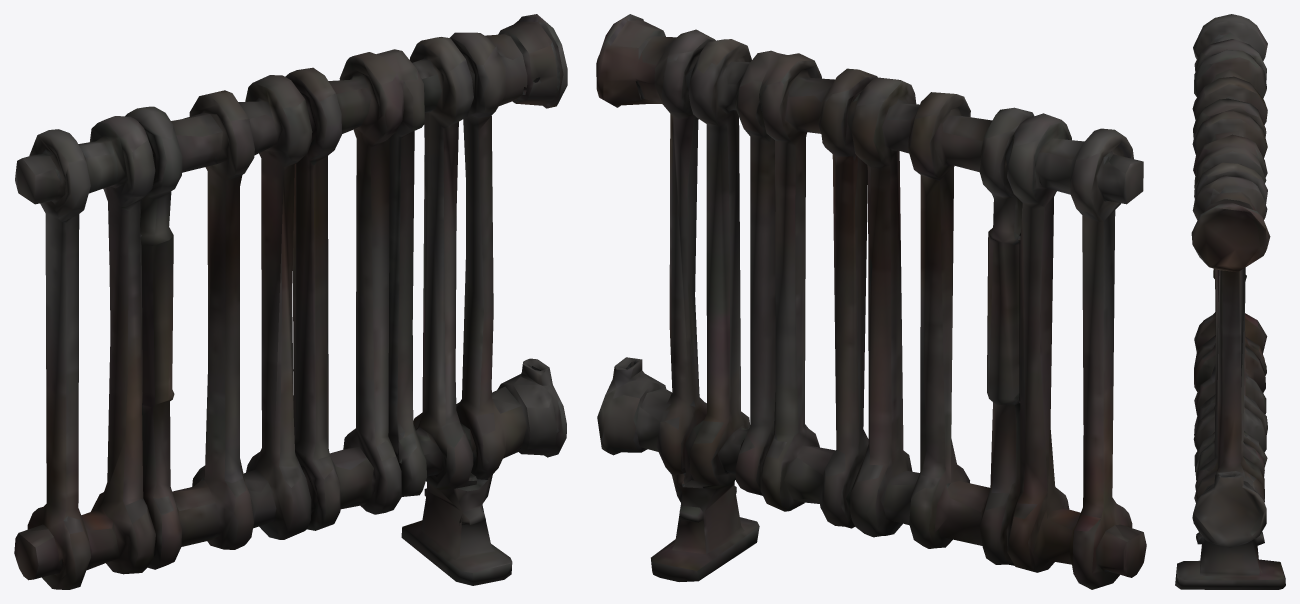
The model's file is chipped-iron-radiator-v003.glb.
The picture shows the model from 3 angles, left to right: view 1: azimuth 30°, elevation 25°; view 2: azimuth 150°, elevation 25°; view 3: azimuth 270°, elevation 25°; orthographic projection. The views are drawn at different scales.
Visible parts, largest first — view 1: chipped-iron-radiator; view 2: chipped-iron-radiator; view 3: chipped-iron-radiator.
Boxes of the visible parts, box(x1,y1,x2,y2) form: chipped-iron-radiator: box(14, 14, 567, 589); chipped-iron-radiator: box(596, 14, 1146, 589); chipped-iron-radiator: box(1175, 14, 1285, 589).
Bounding box in the file's own units: 0.8217 × 0.7895 × 0.1923.
1 material, 1 textured.
